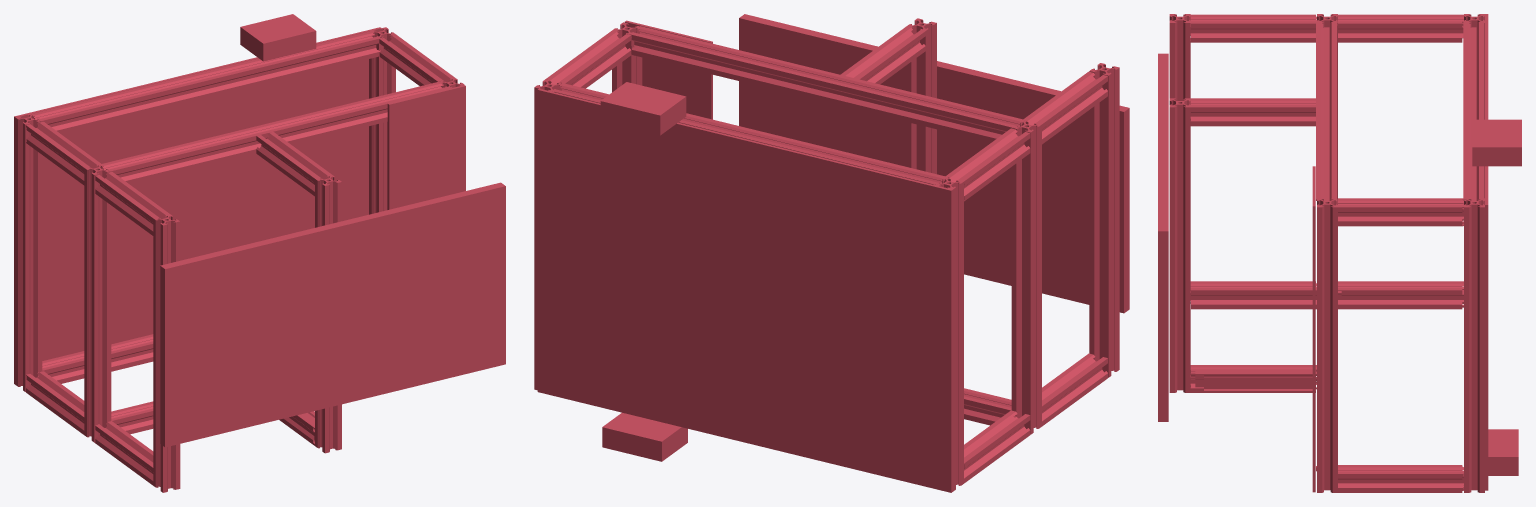
File: profile_chassis.glb
3 views of the same model, side by side, from view 1: azimuth 30°, elevation 25°; view 2: azimuth 150°, elevation 25°; view 3: azimuth 270°, elevation 25° (orthographic). The views are drawn at different scales.
Parts seen in each view (by area): view 1: Mesh_Mesh_head_geo.001_lambert2SG.001; view 2: Mesh_Mesh_head_geo.001_lambert2SG.001; view 3: Mesh_Mesh_head_geo.001_lambert2SG.001.
Boxes of the visible parts, box(x1,y1,x2,y2) form: Mesh_Mesh_head_geo.001_lambert2SG.001: box(14, 14, 505, 492); Mesh_Mesh_head_geo.001_lambert2SG.001: box(534, 14, 1129, 492); Mesh_Mesh_head_geo.001_lambert2SG.001: box(1158, 14, 1521, 492).
Bounding box in the file's own units: 439 × 345 × 346.
